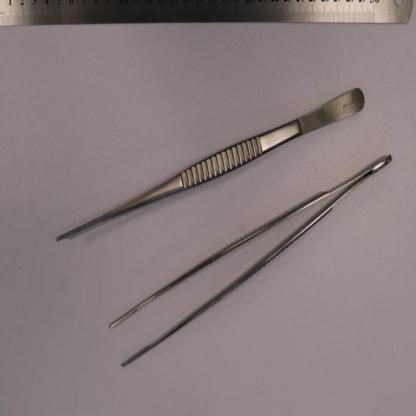DeBakey Dissector: (110, 154, 392, 370), (57, 88, 365, 244)
